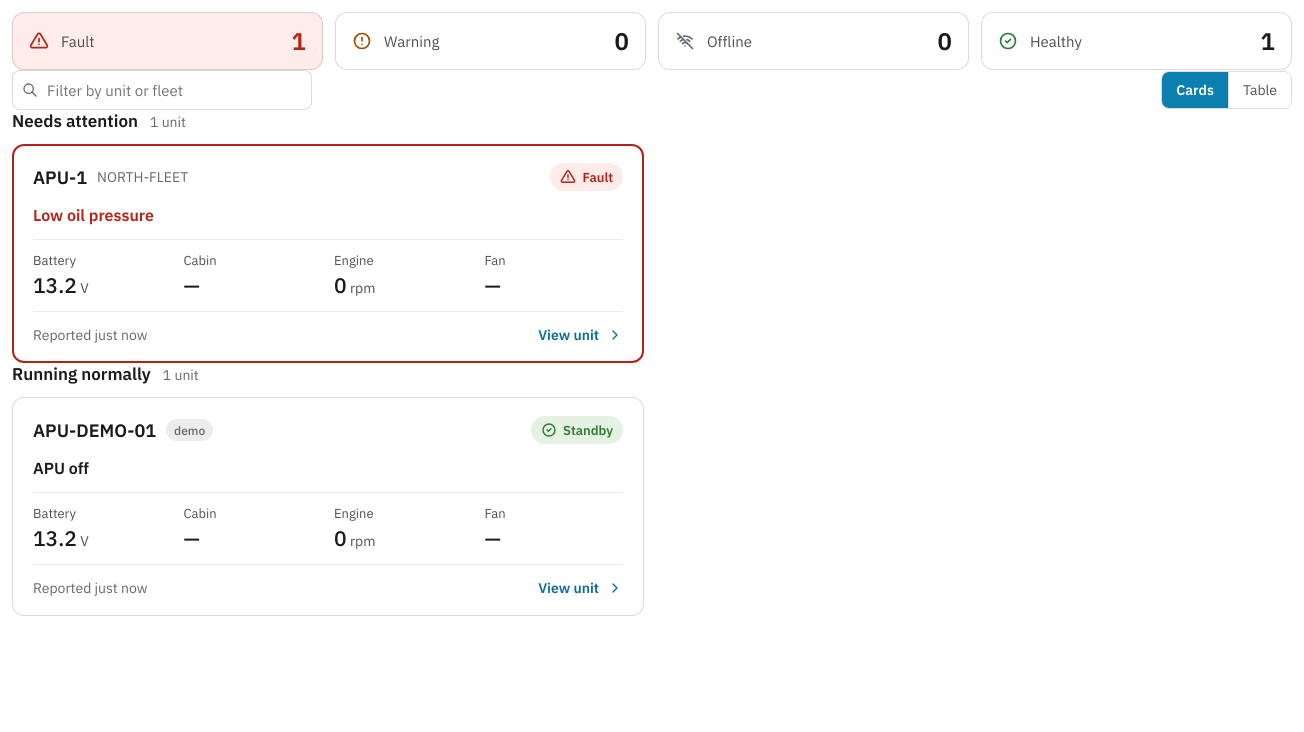
DashboardPage › filters by tile and clears on a second click
Click the button "Fault 1" at (78, 41), box [12, 12, 323, 70]
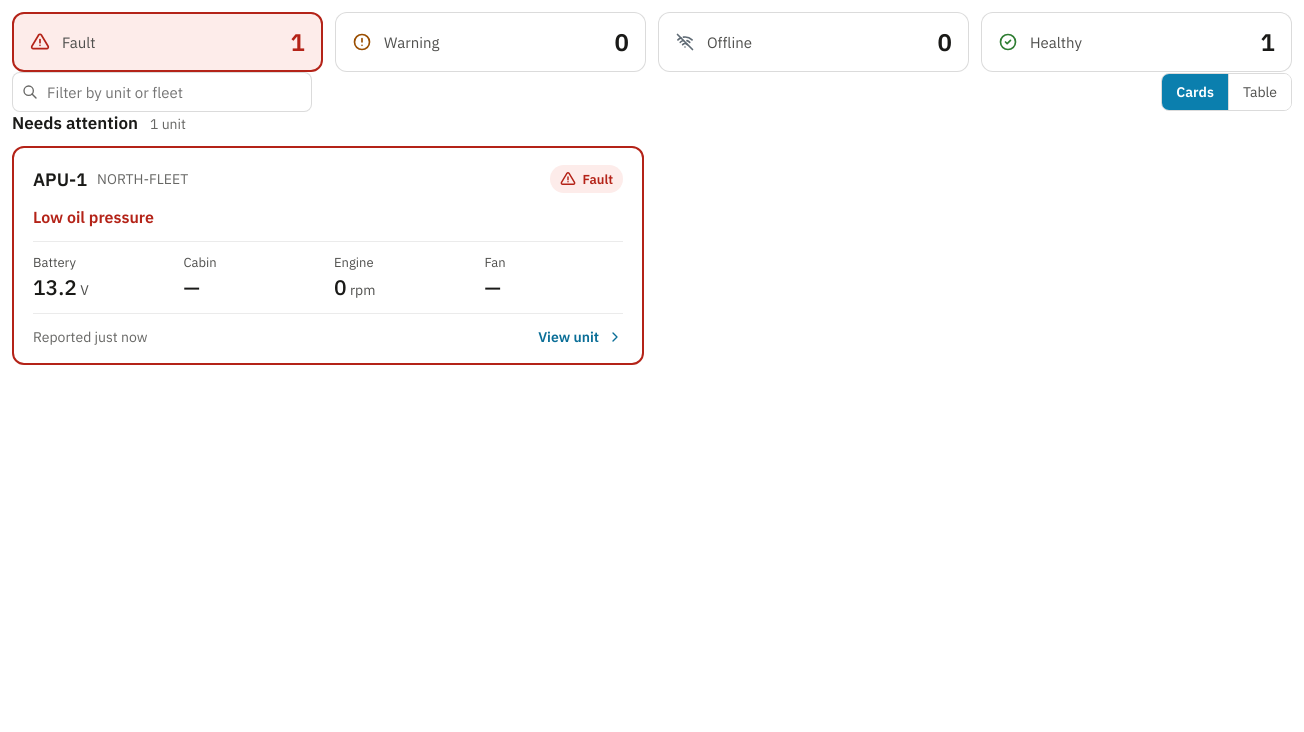
Check: the link with aria-label "Open APU-1" is shown, box [12, 146, 644, 365]
Check: the heading "Running normally" is gone
Click the button "Fault 1" at (79, 42), box [12, 12, 323, 72]
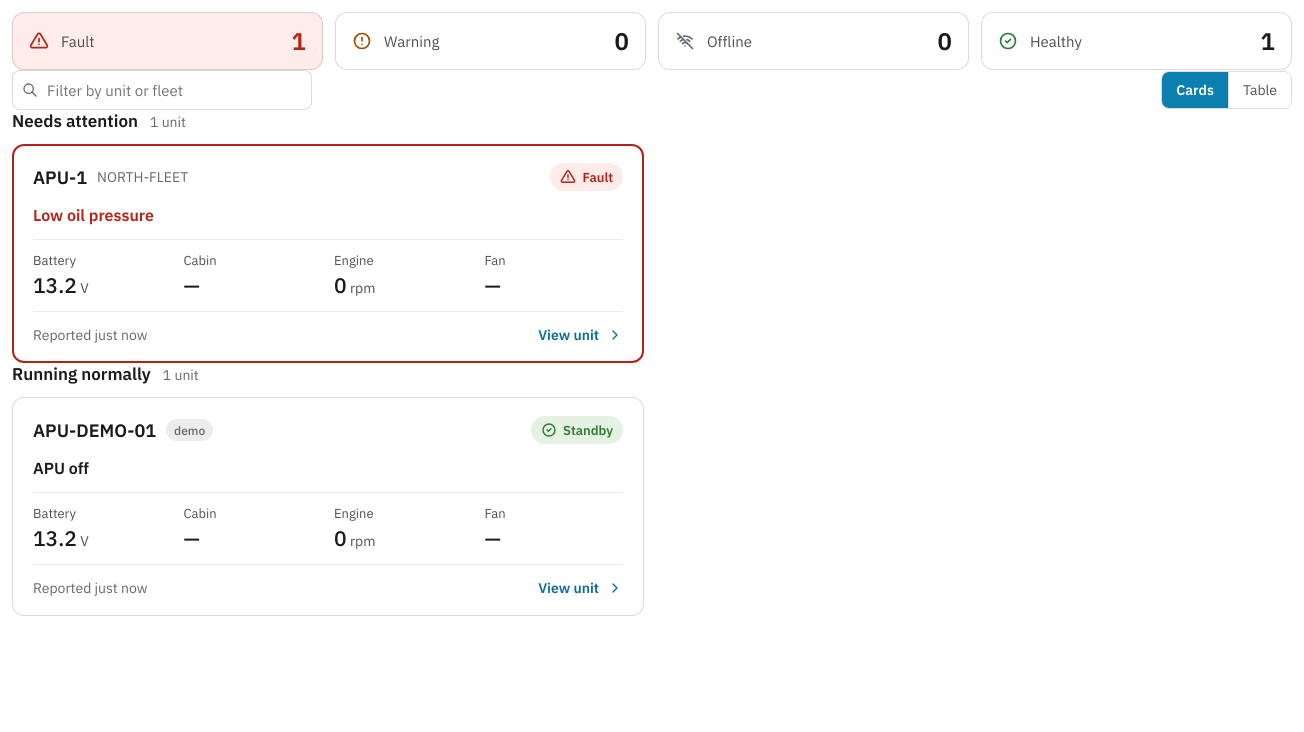
Check: the link with aria-label "Open APU-DEMO-01" is shown, box [12, 397, 644, 616]
